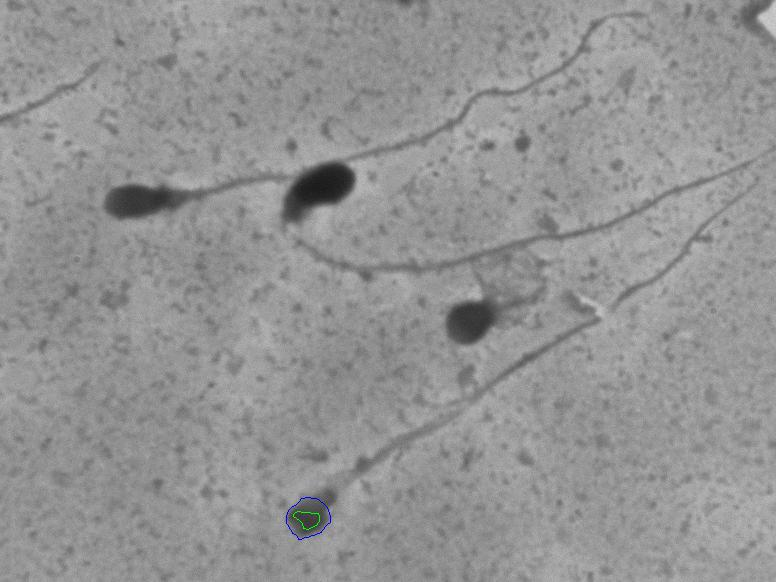Abnormal: (259, 157, 761, 292), (80, 128, 236, 273), (427, 248, 560, 358)
